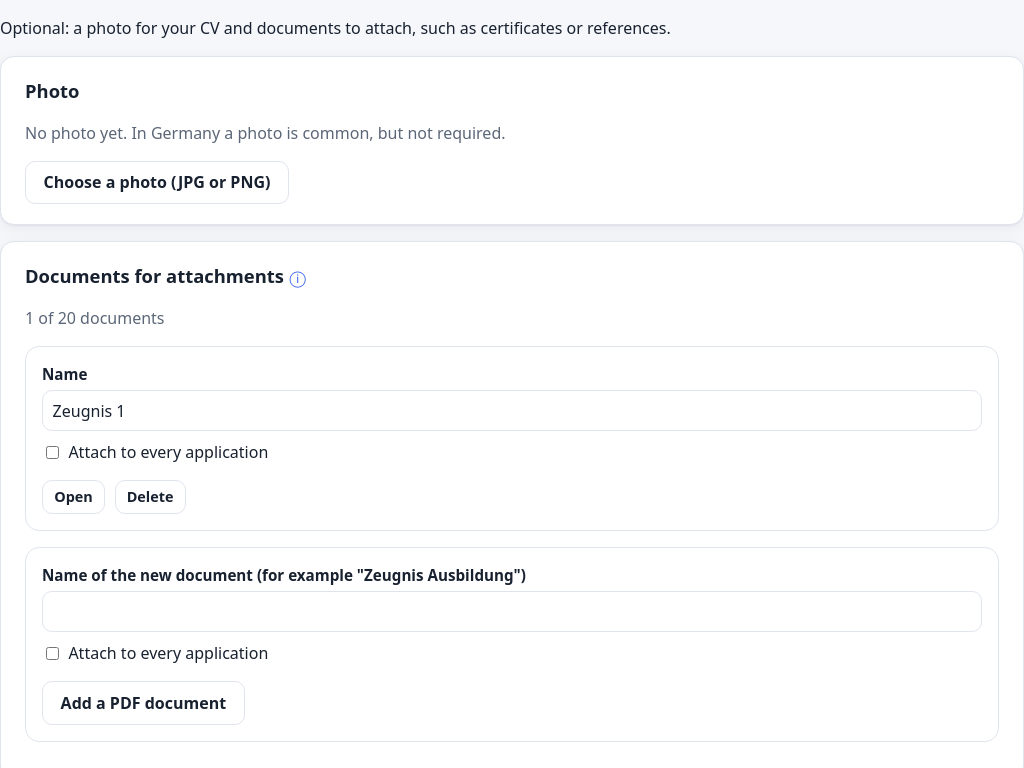
Scenario: FilesStep › changes a document and asks once more before deleting it
The image size is (1024, 768).
Click the 1st checkbox labelled "Attach to every application" at (52,452), box [46,446,59,459]
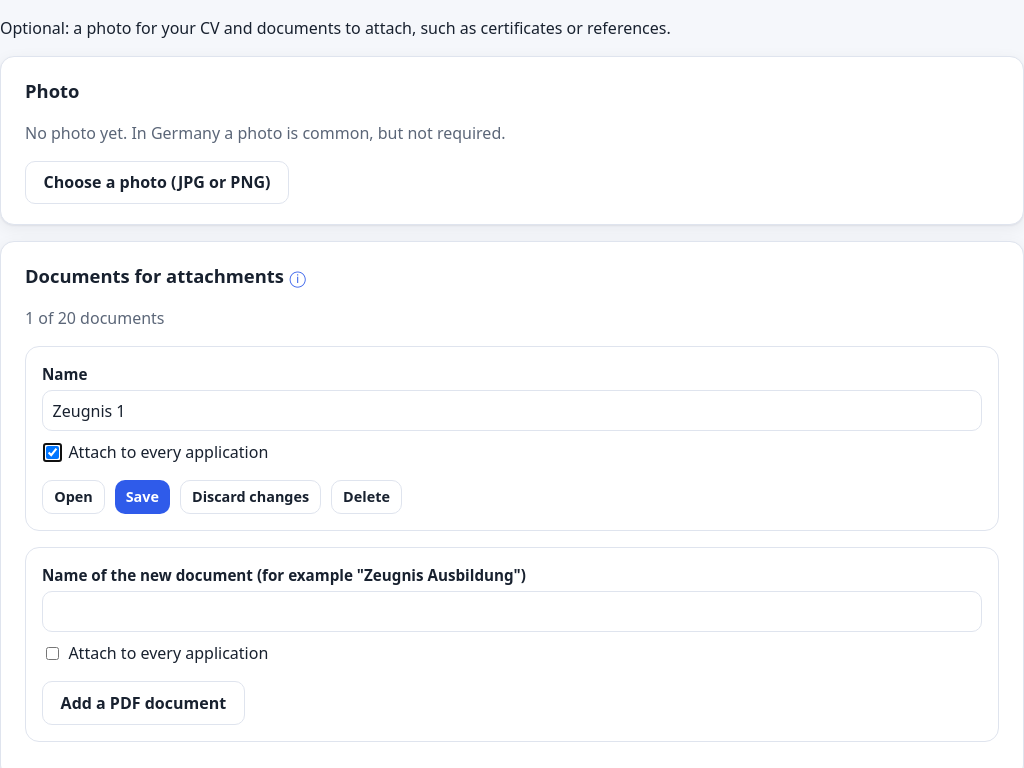
Click the button "Save" at (142,497), box [114,480,170,514]
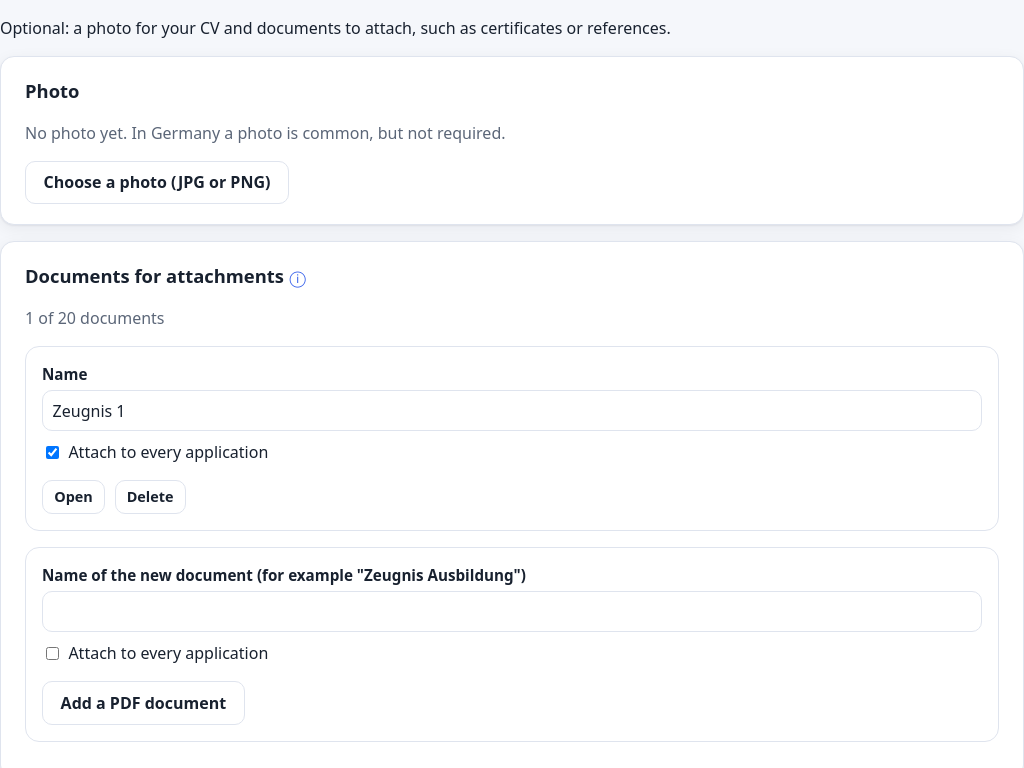
Click the button "Delete" at (150,497), box [114,480,186,514]
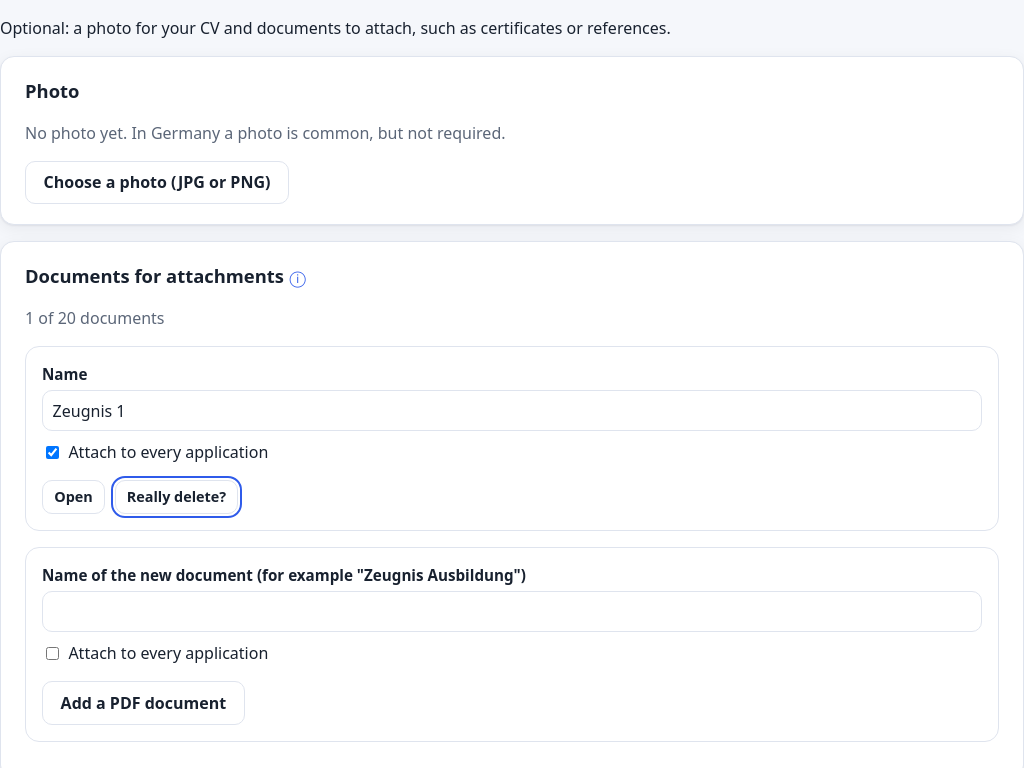
Click the button "Really delete?" at (176,497), box [114,480,238,514]
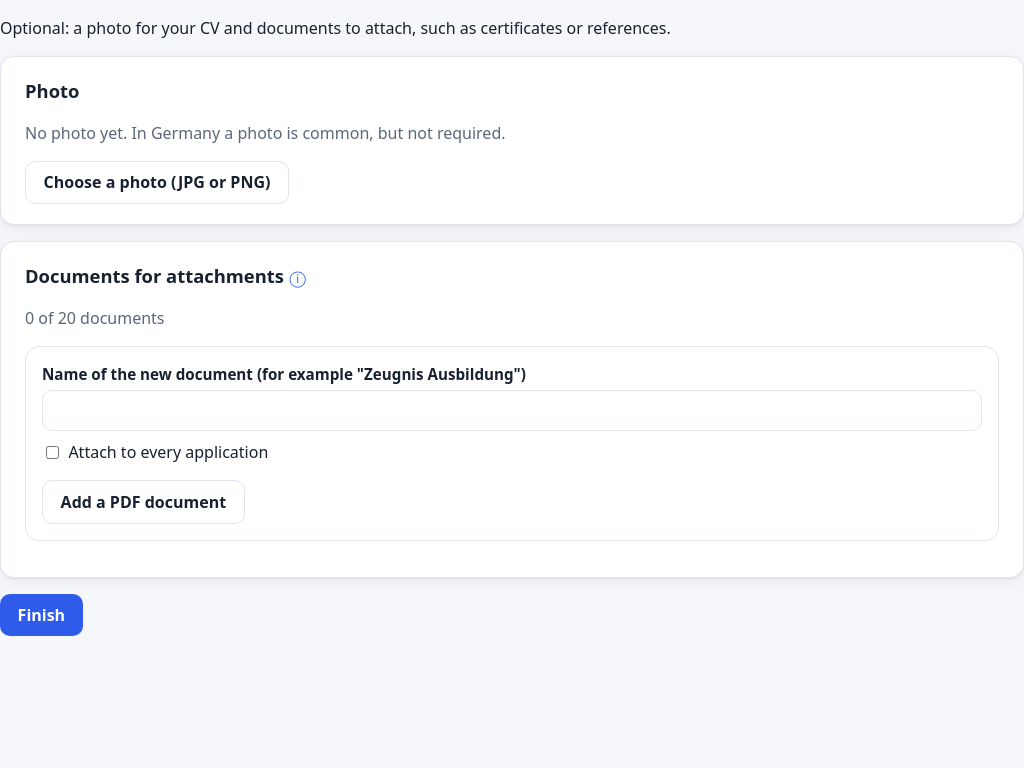
Check: the text "0 of 20 documents" is shown, box [25,307,164,329]
